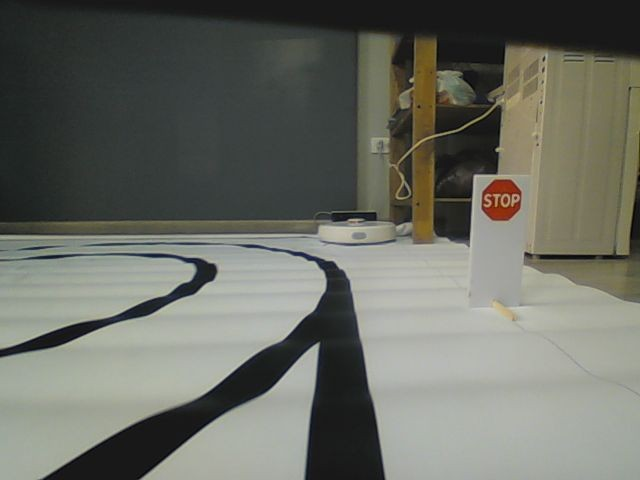Stop: (482, 178, 523, 223)
